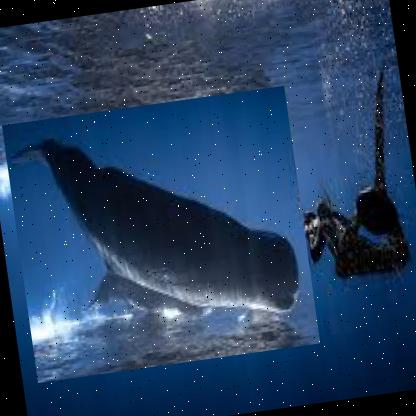sperm_whale: (0, 86, 320, 384)
